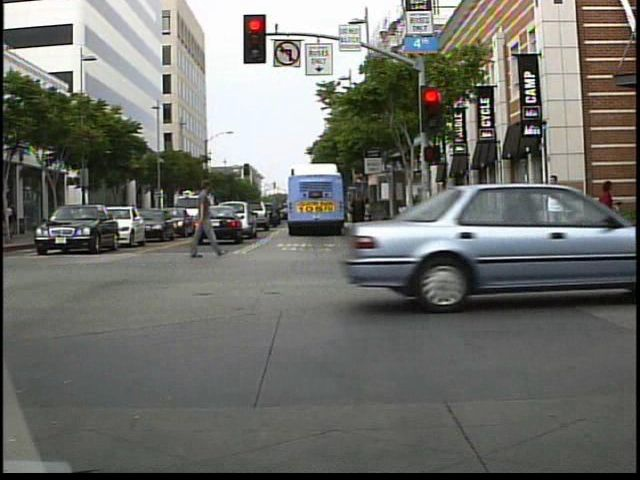person: (184, 178, 225, 263)
